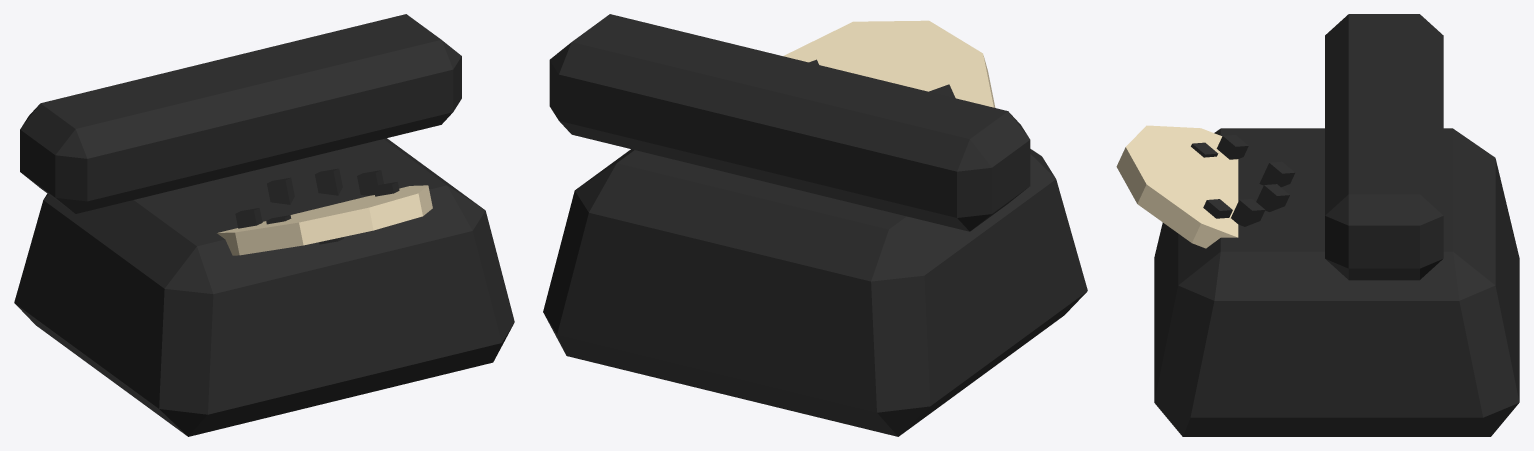
The model's file is telephone.fbx.
3 renders of one model, left to right at view 1: azimuth 30°, elevation 25°; view 2: azimuth 150°, elevation 25°; view 3: azimuth 270°, elevation 25°, orthographic. The views are drawn at different scales.
Visible parts, largest first — view 1: telephone; view 2: telephone; view 3: telephone.
Boxes of the visible parts, <box> form: telephone: <box>14,14,514,436</box>; telephone: <box>543,14,1087,436</box>; telephone: <box>1116,14,1519,436</box>.
Size of the model in its own units: 0.8 by 0.48 by 0.6802.
